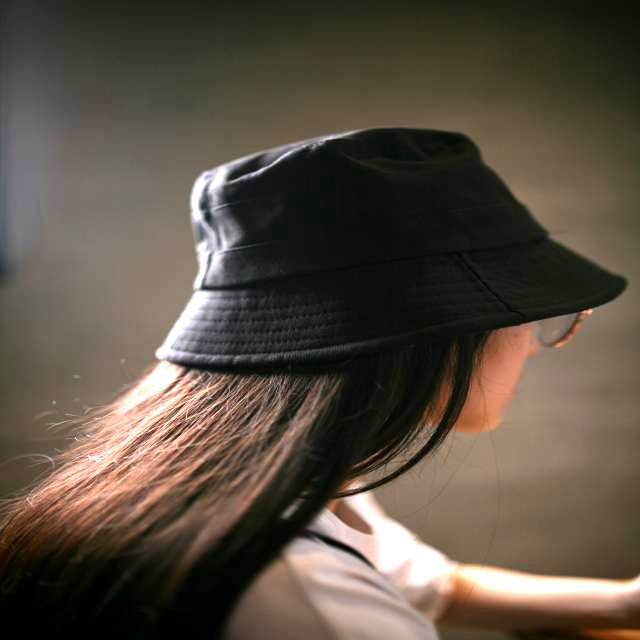no_hard_hat: (158, 129, 625, 368)
person: (2, 128, 640, 640)
